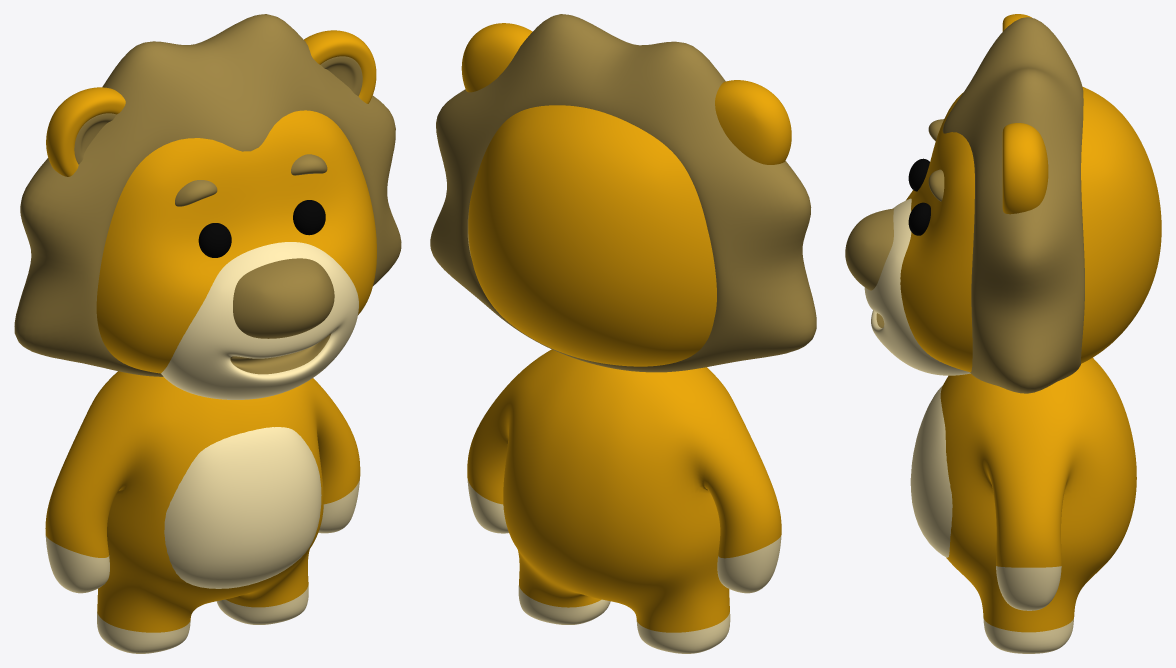
The model's file is Lion_3d.glb.
3 renders of one model, left to right at view 1: azimuth 30°, elevation 25°; view 2: azimuth 150°, elevation 25°; view 3: azimuth 270°, elevation 25°, orthographic. The views are drawn at different scales.
Parts seen in each view (by area): view 1: Cube.085, Cube.081, Cube.077, Cube.086, Cube.083, Cube.078, Cube.080, Sphere.022, Cube.082, Cube.084; view 2: Cube.081, Cube.077, Cube.085, Cube.080; view 3: Cube.081, Cube.085, Cube.077, Cube.083, Cube.086, Cube.080, Cube.078, Sphere.022, Cube.084.
Boxes of the visible parts, left/top/right/bottom form: Cube.085: left=14, top=14, right=401, bottom=376; Cube.081: left=45, top=371, right=360, bottom=653; Cube.077: left=96, top=110, right=376, bottom=373; Cube.086: left=164, top=427, right=321, bottom=588; Cube.083: left=161, top=242, right=358, bottom=399; Cube.078: left=233, top=258, right=334, bottom=338; Cube.080: left=46, top=30, right=376, bottom=176; Sphere.022: left=198, top=200, right=325, bottom=257; Cube.082: left=74, top=56, right=362, bottom=164; Cube.084: left=175, top=154, right=327, bottom=206; Cube.081: left=467, top=349, right=781, bottom=653; Cube.077: left=468, top=105, right=716, bottom=366; Cube.085: left=430, top=14, right=816, bottom=372; Cube.080: left=461, top=23, right=791, bottom=164; Cube.081: left=940, top=357, right=1136, bottom=653; Cube.085: left=942, top=17, right=1084, bottom=393; Cube.077: left=900, top=86, right=1161, bottom=372; Cube.083: left=864, top=198, right=970, bottom=375; Cube.086: left=910, top=385, right=952, bottom=557; Cube.080: left=1002, top=14, right=1048, bottom=214; Cube.078: left=845, top=208, right=893, bottom=290; Sphere.022: left=908, top=158, right=930, bottom=235; Cube.084: left=928, top=119, right=944, bottom=201.
Size of the model in its own units: 3.92 by 5.88 by 2.96.
